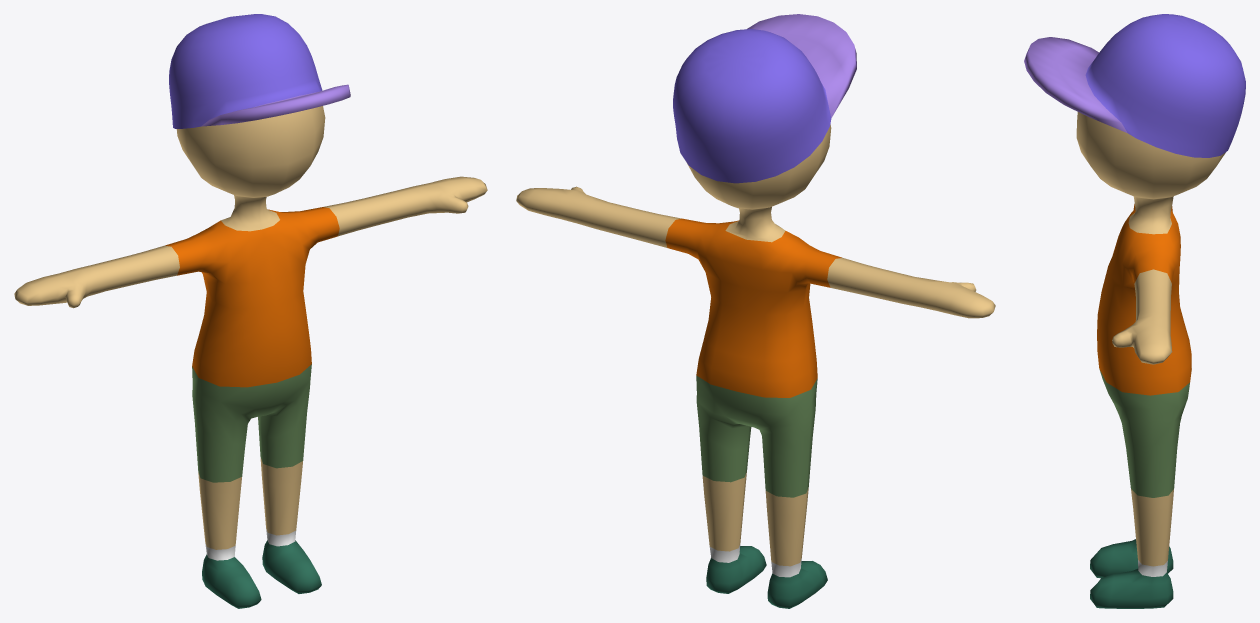
The model's file is stickman_1.fbx.
3 views of the same model, side by side, from view 1: azimuth 30°, elevation 25°; view 2: azimuth 150°, elevation 25°; view 3: azimuth 270°, elevation 25° (orthographic).
Parts seen in each view (by area): view 1: stickman_1, stickman_1.001; view 2: stickman_1, stickman_1.001; view 3: stickman_1, stickman_1.001.
Part boxes in pixels (<box>): stickman_1: <box>14,106,487,608</box>; stickman_1.001: <box>169,14,350,128</box>; stickman_1: <box>516,124,995,608</box>; stickman_1.001: <box>673,14,856,183</box>; stickman_1: <box>1076,112,1225,608</box>; stickman_1.001: <box>1024,14,1245,157</box>.
Size of the model in its own units: 505 by 569 by 202.
